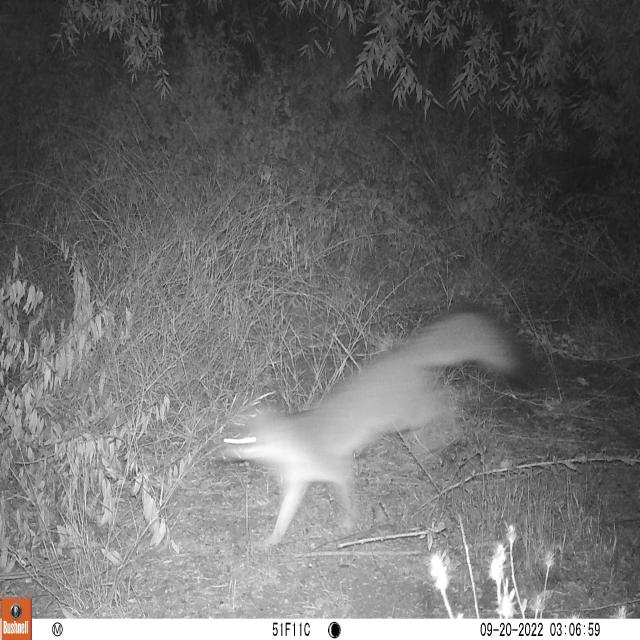Fox: (195, 296, 550, 549)
